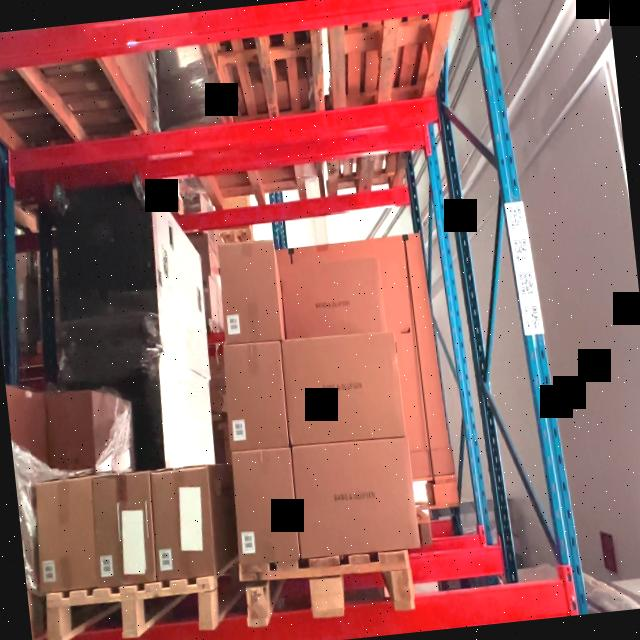box: (292, 440, 418, 558), (282, 333, 402, 445), (233, 449, 297, 564), (149, 470, 210, 580), (224, 340, 285, 447), (34, 479, 93, 586), (91, 475, 150, 580), (220, 245, 279, 340)
